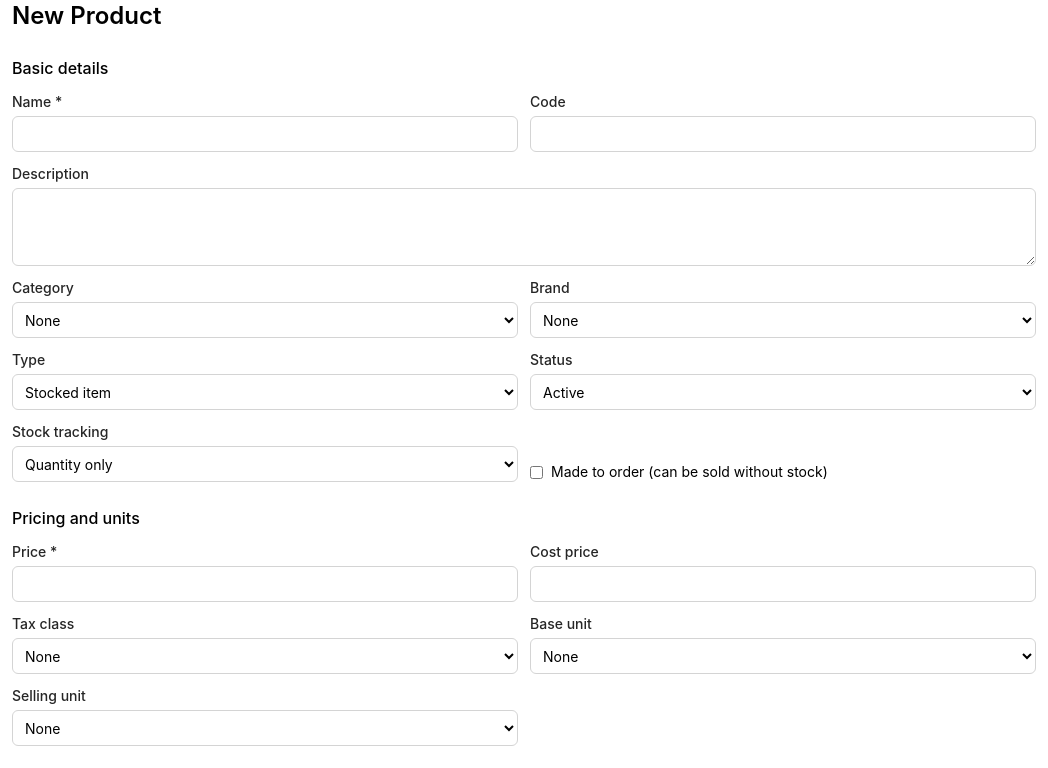
Test: ProductForm — create › places the server's field-level errors on the fields, including custom fields
This screenshot has width=1048, height=768.
Type "X" into the field labelled "Name *" at {"x": 265, "y": 134}, box [12,116,518,152]
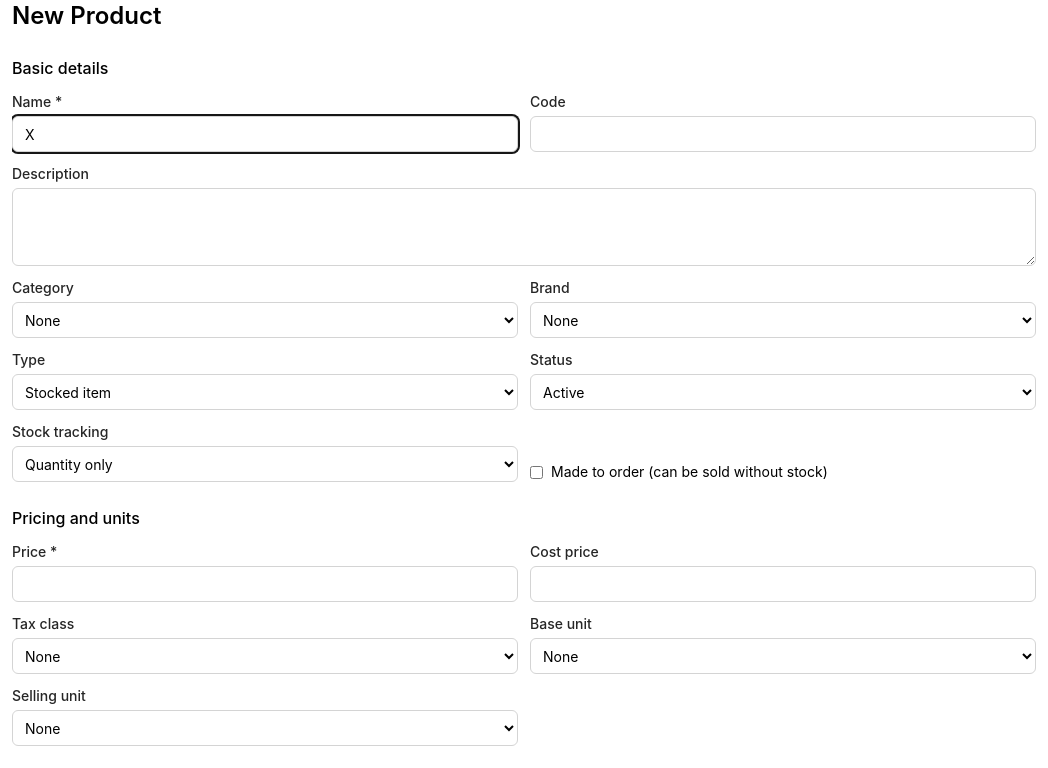
Type "1" into the field labelled "Price *" at {"x": 265, "y": 584}, box [12,566,518,602]
(page scrolled)
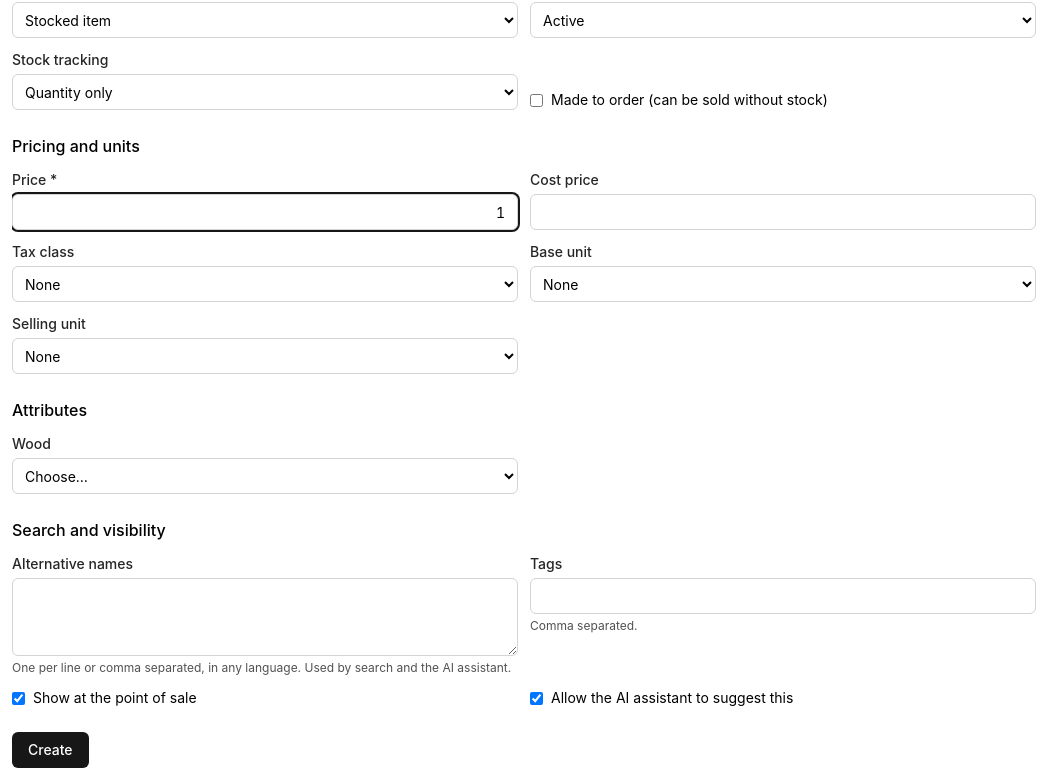
Click the button "Create" at {"x": 50, "y": 750}, box [12,732,89,767]
(page scrolled)
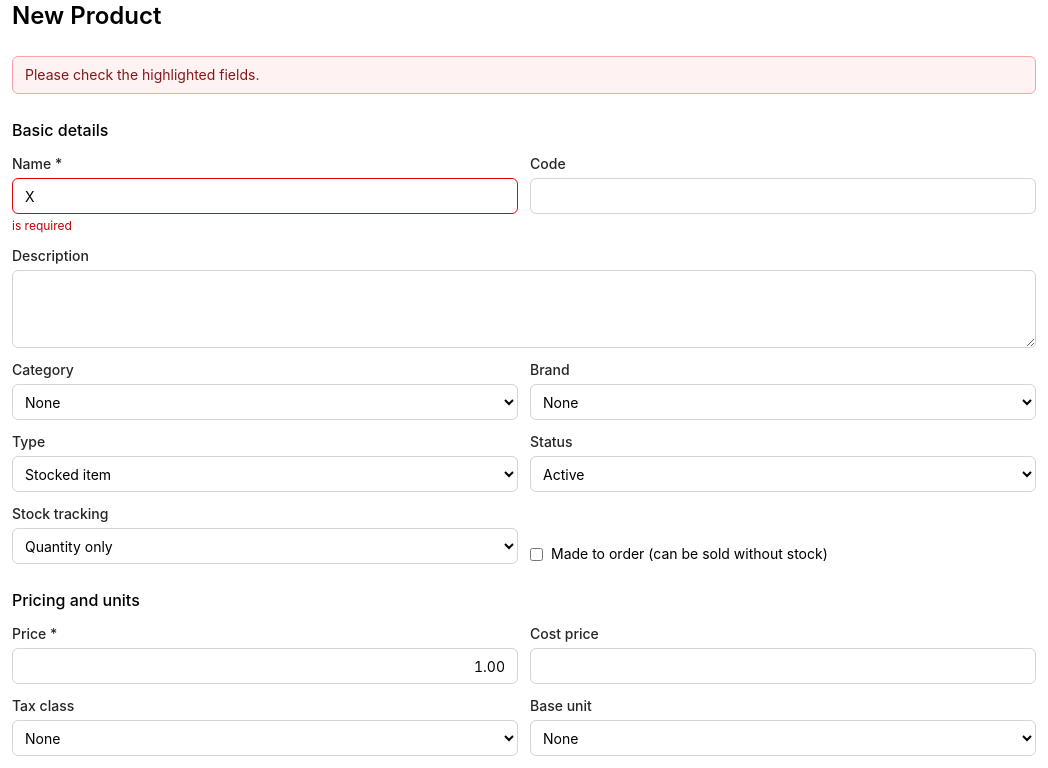
Expected: the text "is required" is shown, [12,218,72,233]
